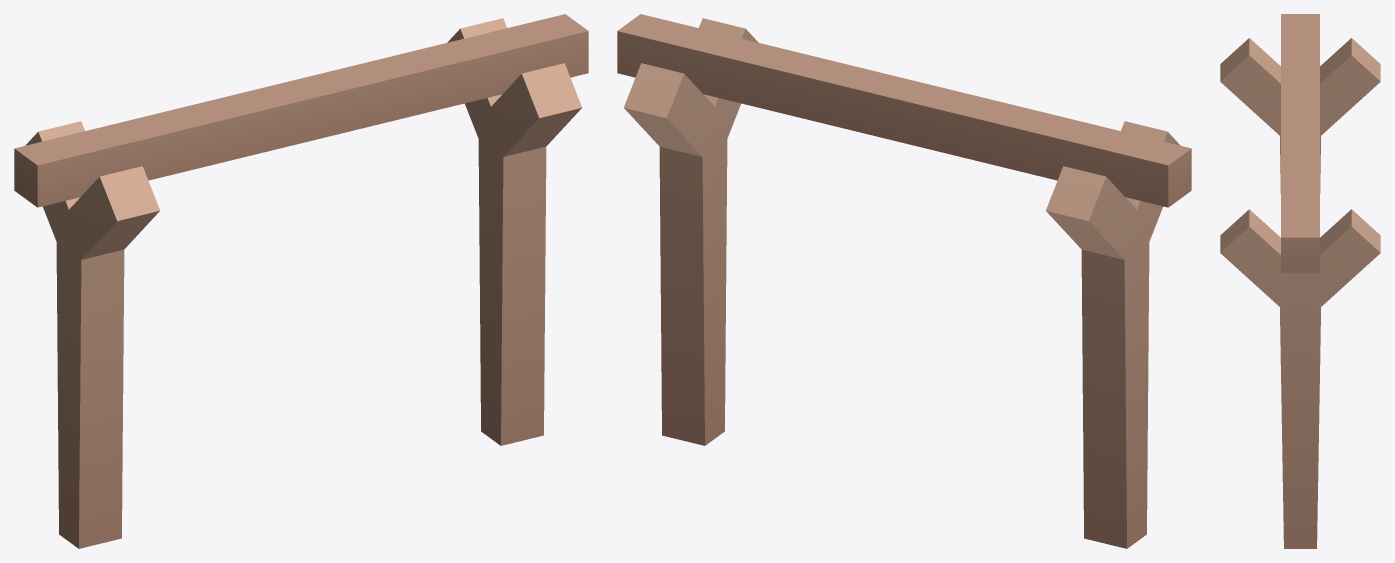
The model's file is campfire-stand.glb.
The picture shows the model from 3 angles, left to right: view 1: azimuth 30°, elevation 25°; view 2: azimuth 150°, elevation 25°; view 3: azimuth 270°, elevation 25°; orthographic projection. The views are drawn at different scales.
Visible parts, largest first — view 1: campfire-stand; view 2: campfire-stand; view 3: campfire-stand.
Part boxes in pixels (left/top/right/bottom): campfire-stand: left=14, top=14, right=588, bottom=548; campfire-stand: left=617, top=14, right=1191, bottom=548; campfire-stand: left=1220, top=14, right=1380, bottom=548.
Size of the model in its own units: 0.41 by 0.281 by 0.1245.
